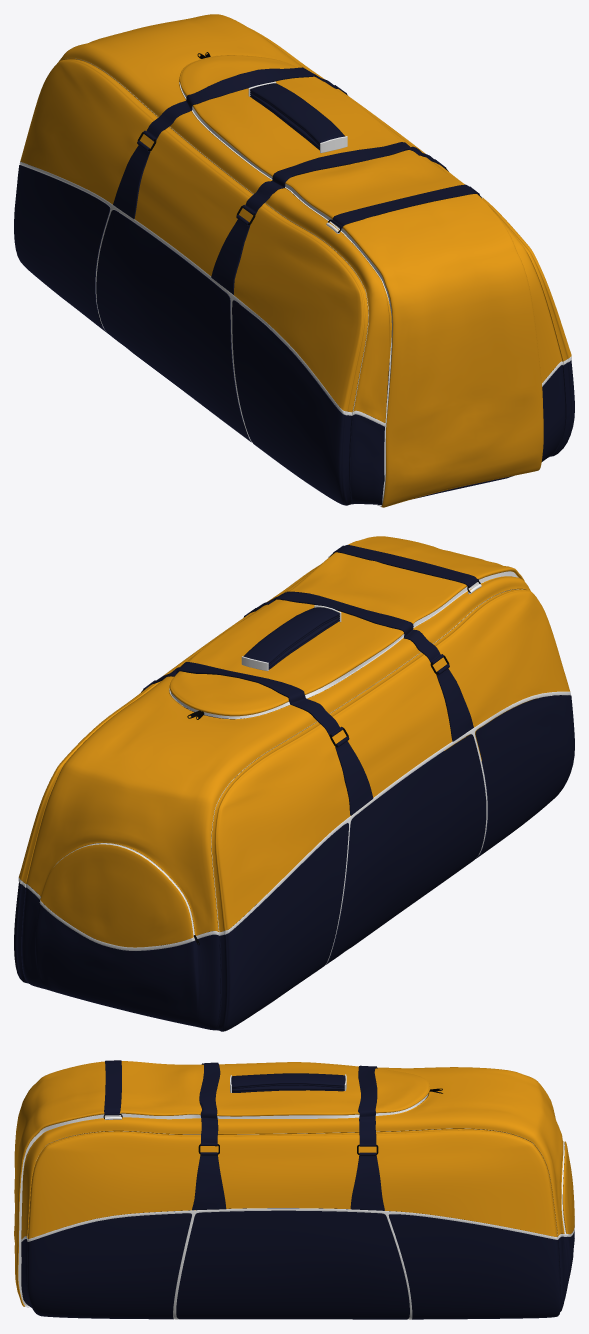
Rendered from uploads_files_2580723_Duffle+Bag.FBX.
3 views of the same model, one above another, from view 1: azimuth 30°, elevation 25°; view 2: azimuth 150°, elevation 25°; view 3: azimuth 270°, elevation 25° (orthographic). The views are drawn at different scales.
Visible parts, largest first — view 1: arch27_004_00, arch27_004_01, arch27_004_05, arch27_004_21, arch27_004_17, arch27_004_07, arch27_004_09, arch27_004_08, arch27_004_16, arch27_004_31; view 2: arch27_004_00, arch27_004_01, arch27_004_05, arch27_004_21, arch27_004_07, arch27_004_17, arch27_004_09, arch27_004_16, arch27_004_08, arch27_004_31; view 3: arch27_004_00, arch27_004_01, arch27_004_05, arch27_004_21, arch27_004_19, arch27_004_13, arch27_004_17, arch27_004_07, arch27_004_09.
Boxes of the visible parts, bbox=[...] form: arch27_004_00: bbox=[20, 14, 571, 507]; arch27_004_01: bbox=[14, 140, 574, 505]; arch27_004_05: bbox=[19, 58, 571, 506]; arch27_004_21: bbox=[250, 83, 344, 150]; arch27_004_17: bbox=[143, 67, 347, 141]; arch27_004_07: bbox=[242, 142, 445, 214]; arch27_004_09: bbox=[331, 184, 479, 228]; arch27_004_08: bbox=[211, 214, 250, 294]; arch27_004_16: bbox=[113, 140, 150, 218]; arch27_004_31: bbox=[95, 226, 512, 499]; arch27_004_00: bbox=[19, 536, 570, 947]; arch27_004_01: bbox=[14, 695, 574, 1031]; arch27_004_05: bbox=[18, 571, 570, 964]; arch27_004_21: bbox=[243, 607, 339, 669]; arch27_004_07: bbox=[244, 591, 443, 664]; arch27_004_17: bbox=[143, 662, 343, 736]; arch27_004_09: bbox=[333, 545, 478, 587]; arch27_004_16: bbox=[335, 736, 373, 815]; arch27_004_08: bbox=[436, 664, 473, 741]; arch27_004_31: bbox=[86, 751, 488, 959]; arch27_004_00: bbox=[14, 1061, 574, 1306]; arch27_004_01: bbox=[21, 1208, 574, 1319]; arch27_004_05: bbox=[18, 1094, 574, 1319]; arch27_004_21: bbox=[231, 1073, 345, 1092]; arch27_004_19: bbox=[350, 1152, 384, 1210]; arch27_004_13: bbox=[192, 1152, 226, 1210]; arch27_004_17: bbox=[358, 1065, 377, 1146]; arch27_004_07: bbox=[199, 1062, 220, 1146]; arch27_004_09: bbox=[104, 1060, 121, 1115].
Size of the model in its own units: 334 by 321 by 805.
